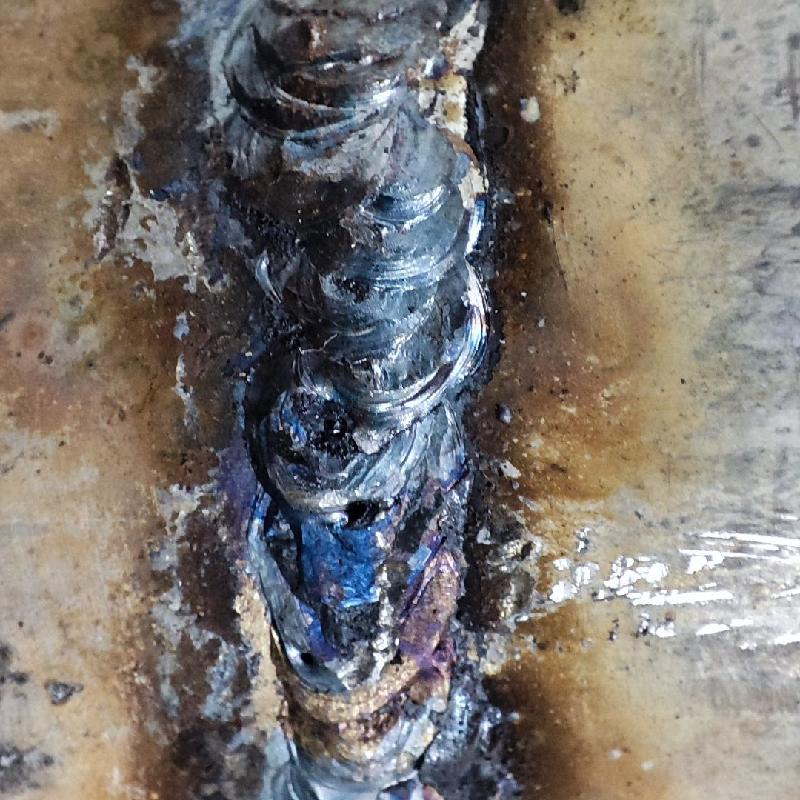Surface_pores: (284, 633, 342, 685), (341, 478, 382, 537)
